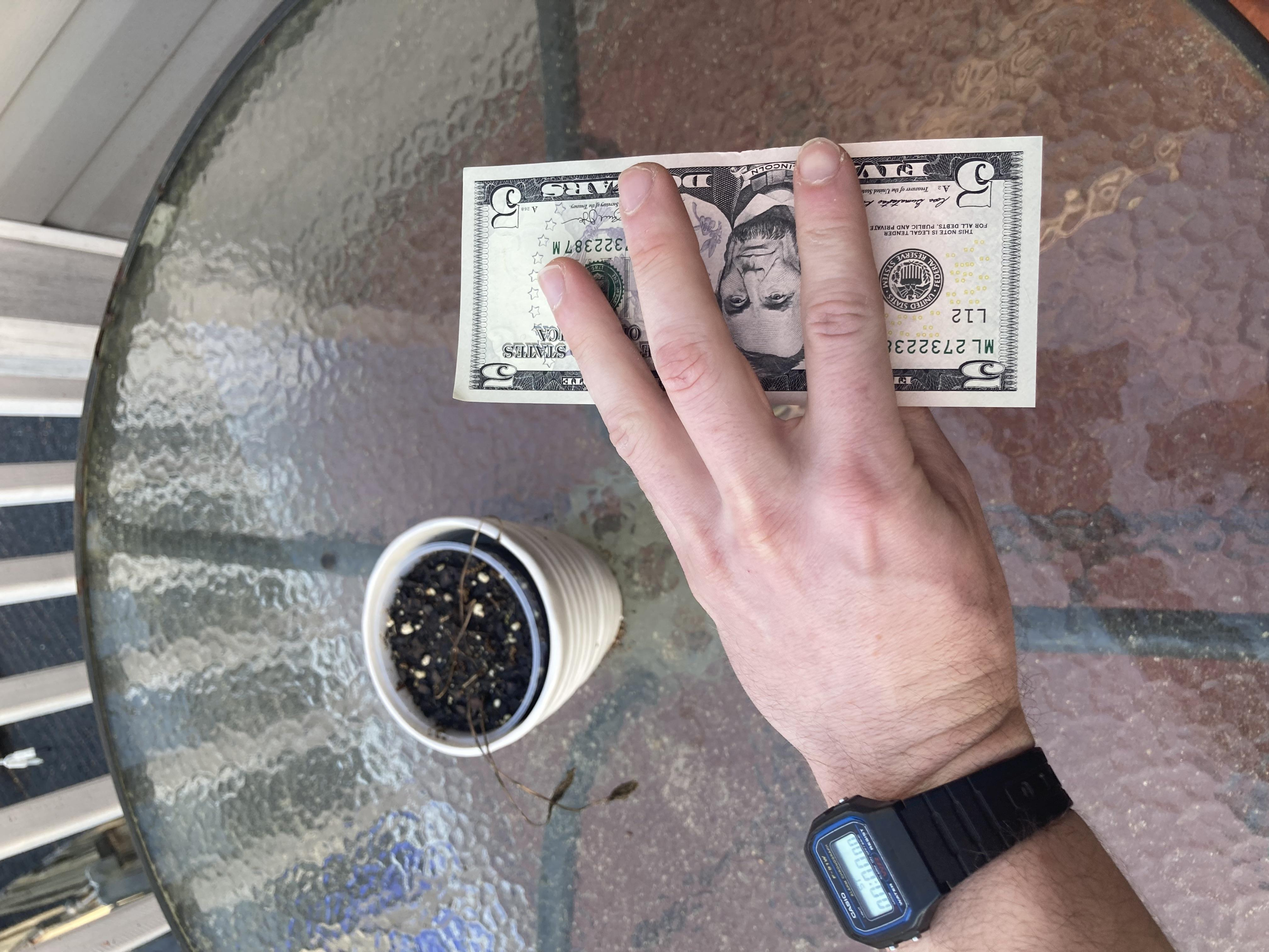five-front: (724, 341, 1092, 782)
